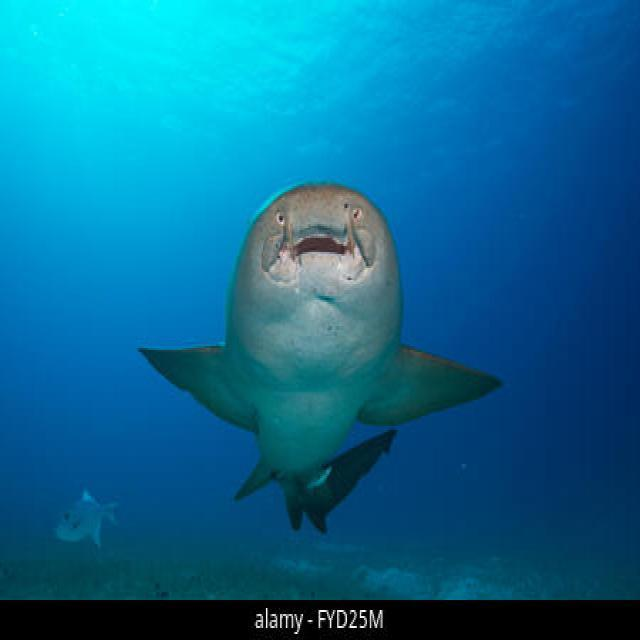Shark: (131, 94, 515, 550)
